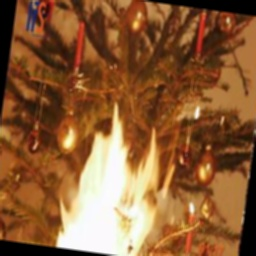fire: (57, 99, 184, 256)
